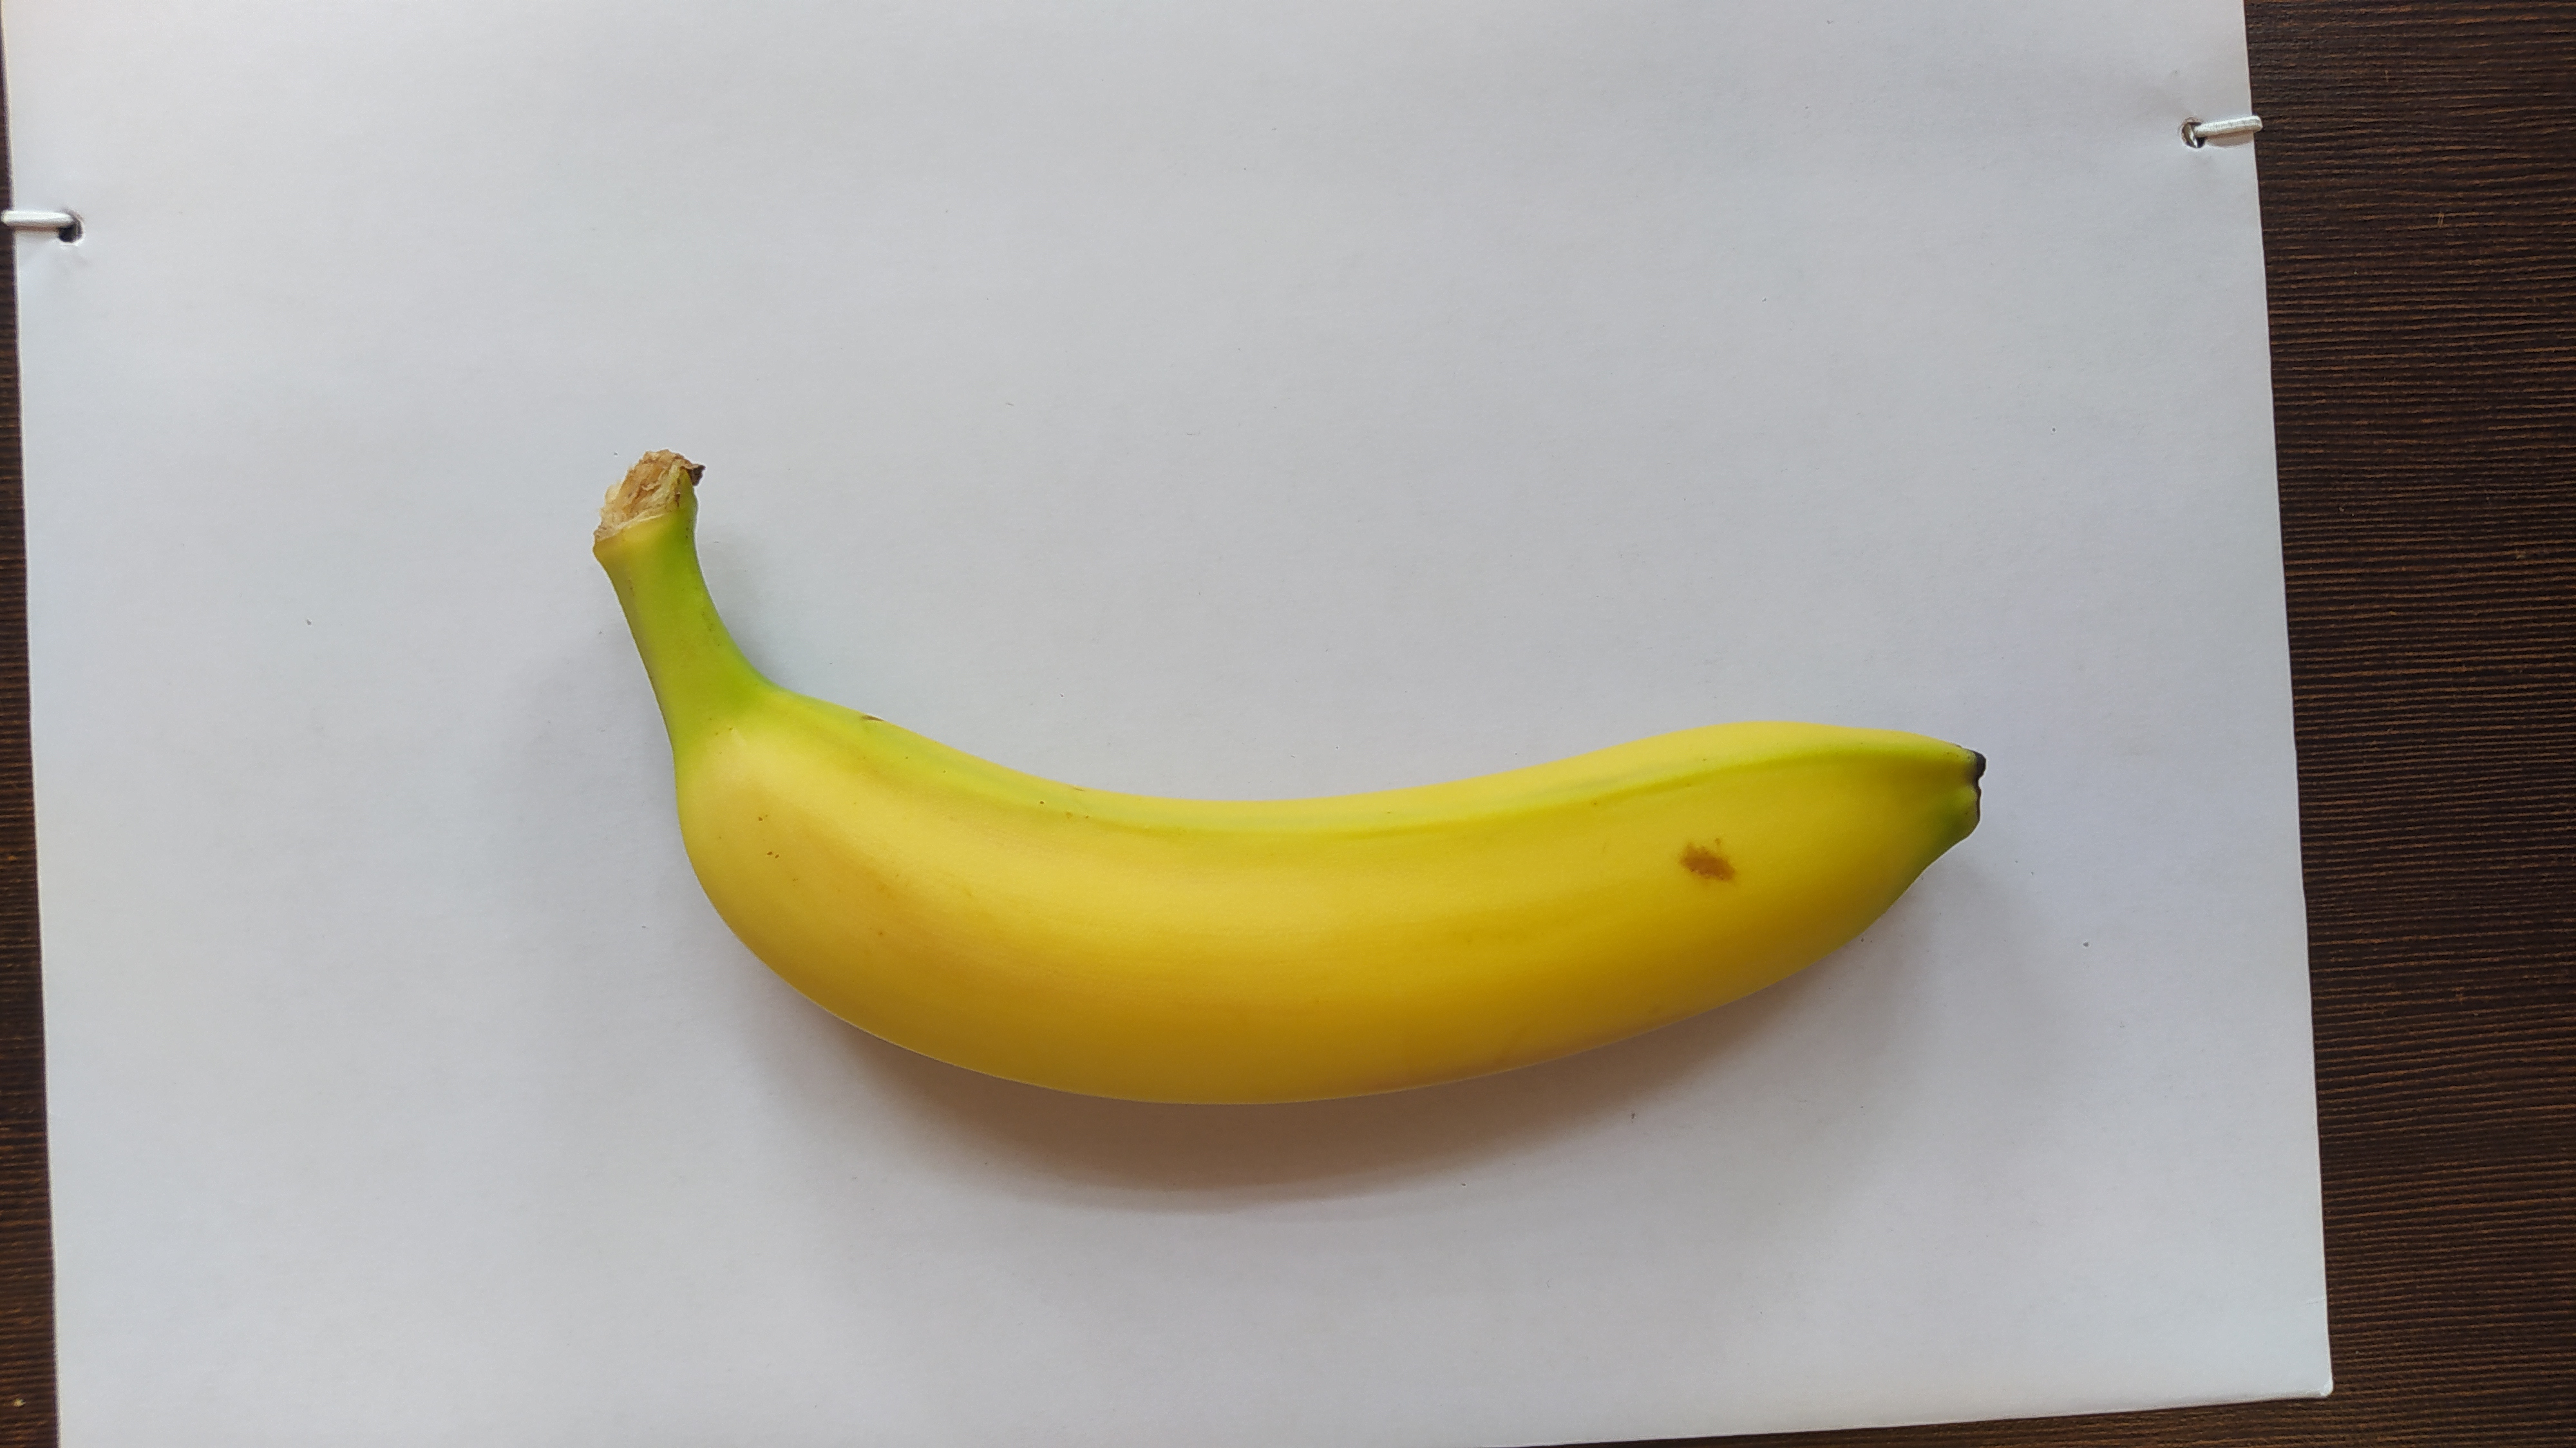banana: (591, 446, 1985, 1113)
